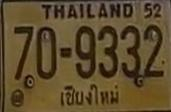0: (36, 26, 56, 78)
2: (143, 24, 163, 77)
3: (120, 25, 140, 78), (98, 25, 118, 77)
7: (13, 25, 33, 79)
9: (75, 25, 95, 78)
CMI: (55, 81, 122, 110)
